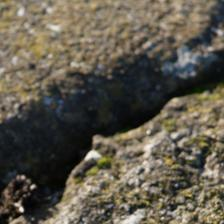Crack: (9, 24, 210, 193)
